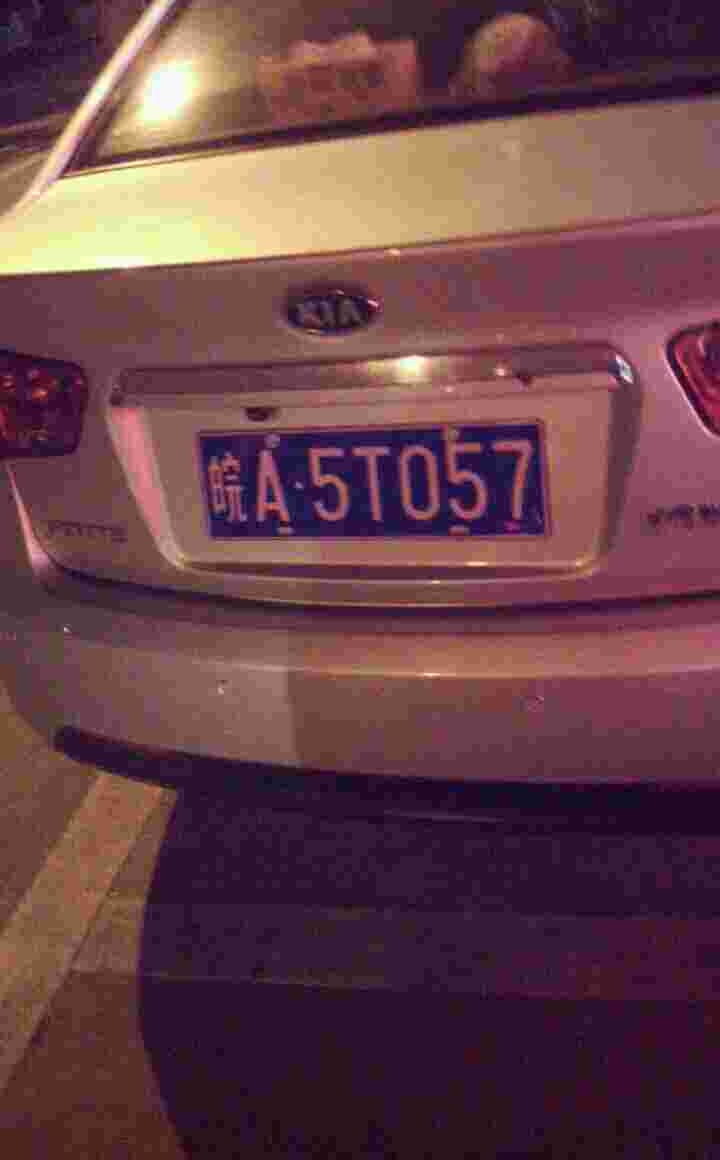license_plate: (206, 424, 535, 542)
